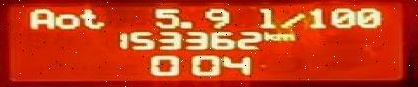-: (179, 19, 194, 28)
0: (146, 53, 180, 76), (189, 53, 220, 76), (354, 5, 383, 28), (329, 6, 352, 28)
1: (309, 6, 330, 31), (114, 30, 128, 51)
2: (236, 29, 260, 50)
3: (182, 28, 206, 49), (154, 29, 179, 49)
4: (220, 54, 251, 74)
5: (151, 6, 179, 28), (128, 30, 154, 50)
6: (206, 30, 234, 49)
9: (203, 6, 231, 28)
X: (24, 6, 52, 30), (78, 6, 106, 30), (257, 5, 278, 28), (52, 12, 78, 30), (278, 11, 304, 28), (274, 31, 296, 40), (262, 30, 274, 40)
